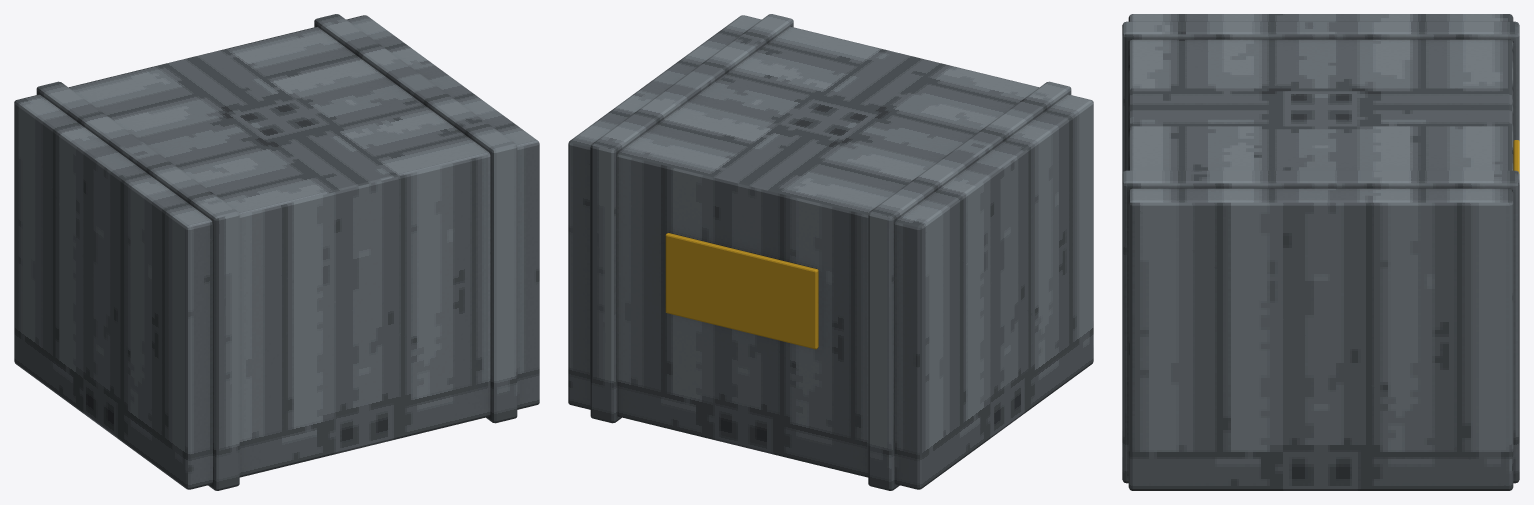
File: base_crate.glb
3 views of the same model, side by side, from view 1: azimuth 30°, elevation 25°; view 2: azimuth 150°, elevation 25°; view 3: azimuth 270°, elevation 25° (orthographic). The views are drawn at different scales.
Visible parts, largest first — view 1: base_crate.002; view 2: base_crate.002; view 3: base_crate.002.
Part boxes in pixels (x1,y1,x2,y2): base_crate.002: (14,14,539,490); base_crate.002: (568,14,1093,490); base_crate.002: (1122,14,1519,490).
Bounding box in the file's own units: 1.4 × 1.04 × 1.24.
Materials: 2 (2 with a texture image).
